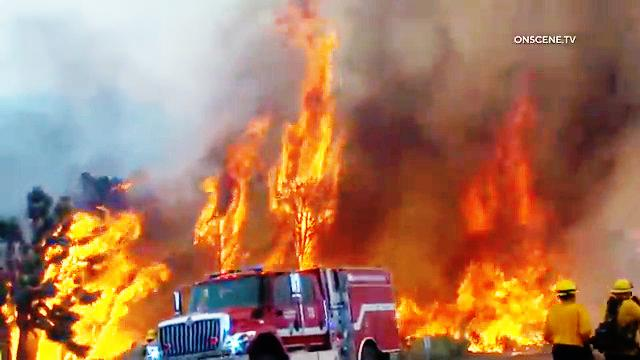fire: (32, 201, 154, 360), (282, 27, 344, 267), (425, 265, 549, 345), (192, 164, 250, 271)
smoke: (16, 3, 256, 122), (366, 9, 459, 196)
